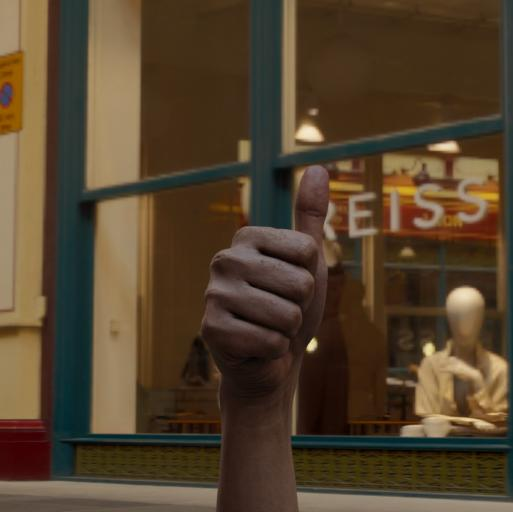thumbs-up: (402, 282, 513, 506)
